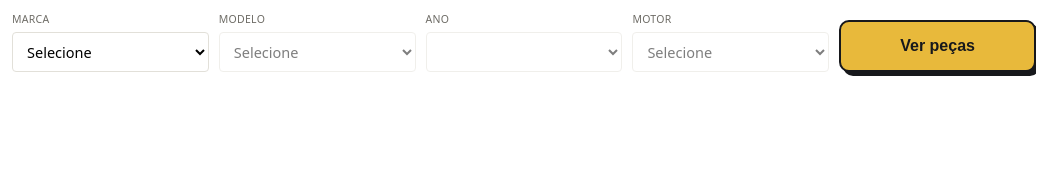
Test case: SeletorCascata › carrega modelos ao escolher marca, e reseta os campos seguintes
Select "Nissan" in the dropdown below "MARCA" at (110, 52), box [12,32,209,72]
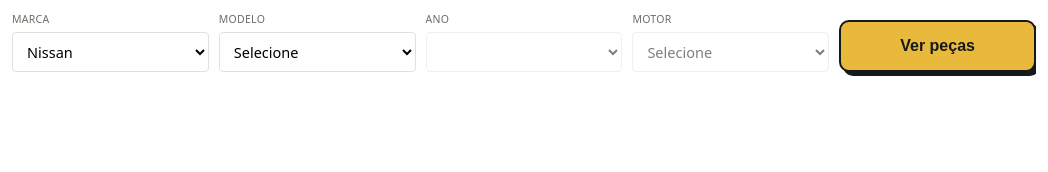
Check: the dropdown below "ANO" is disabled, box [426,32,622,72]
Check: the dropdown below "MODELO" is enabled, box [219,32,416,72]
